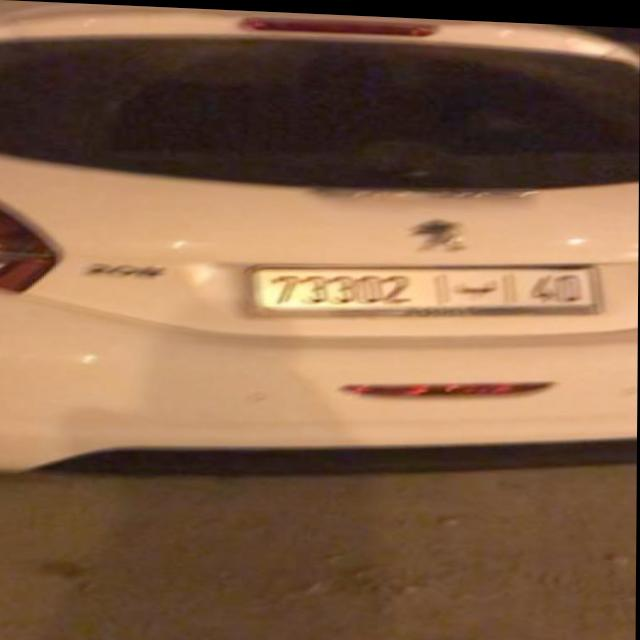License-Plate: (248, 259, 601, 312)
